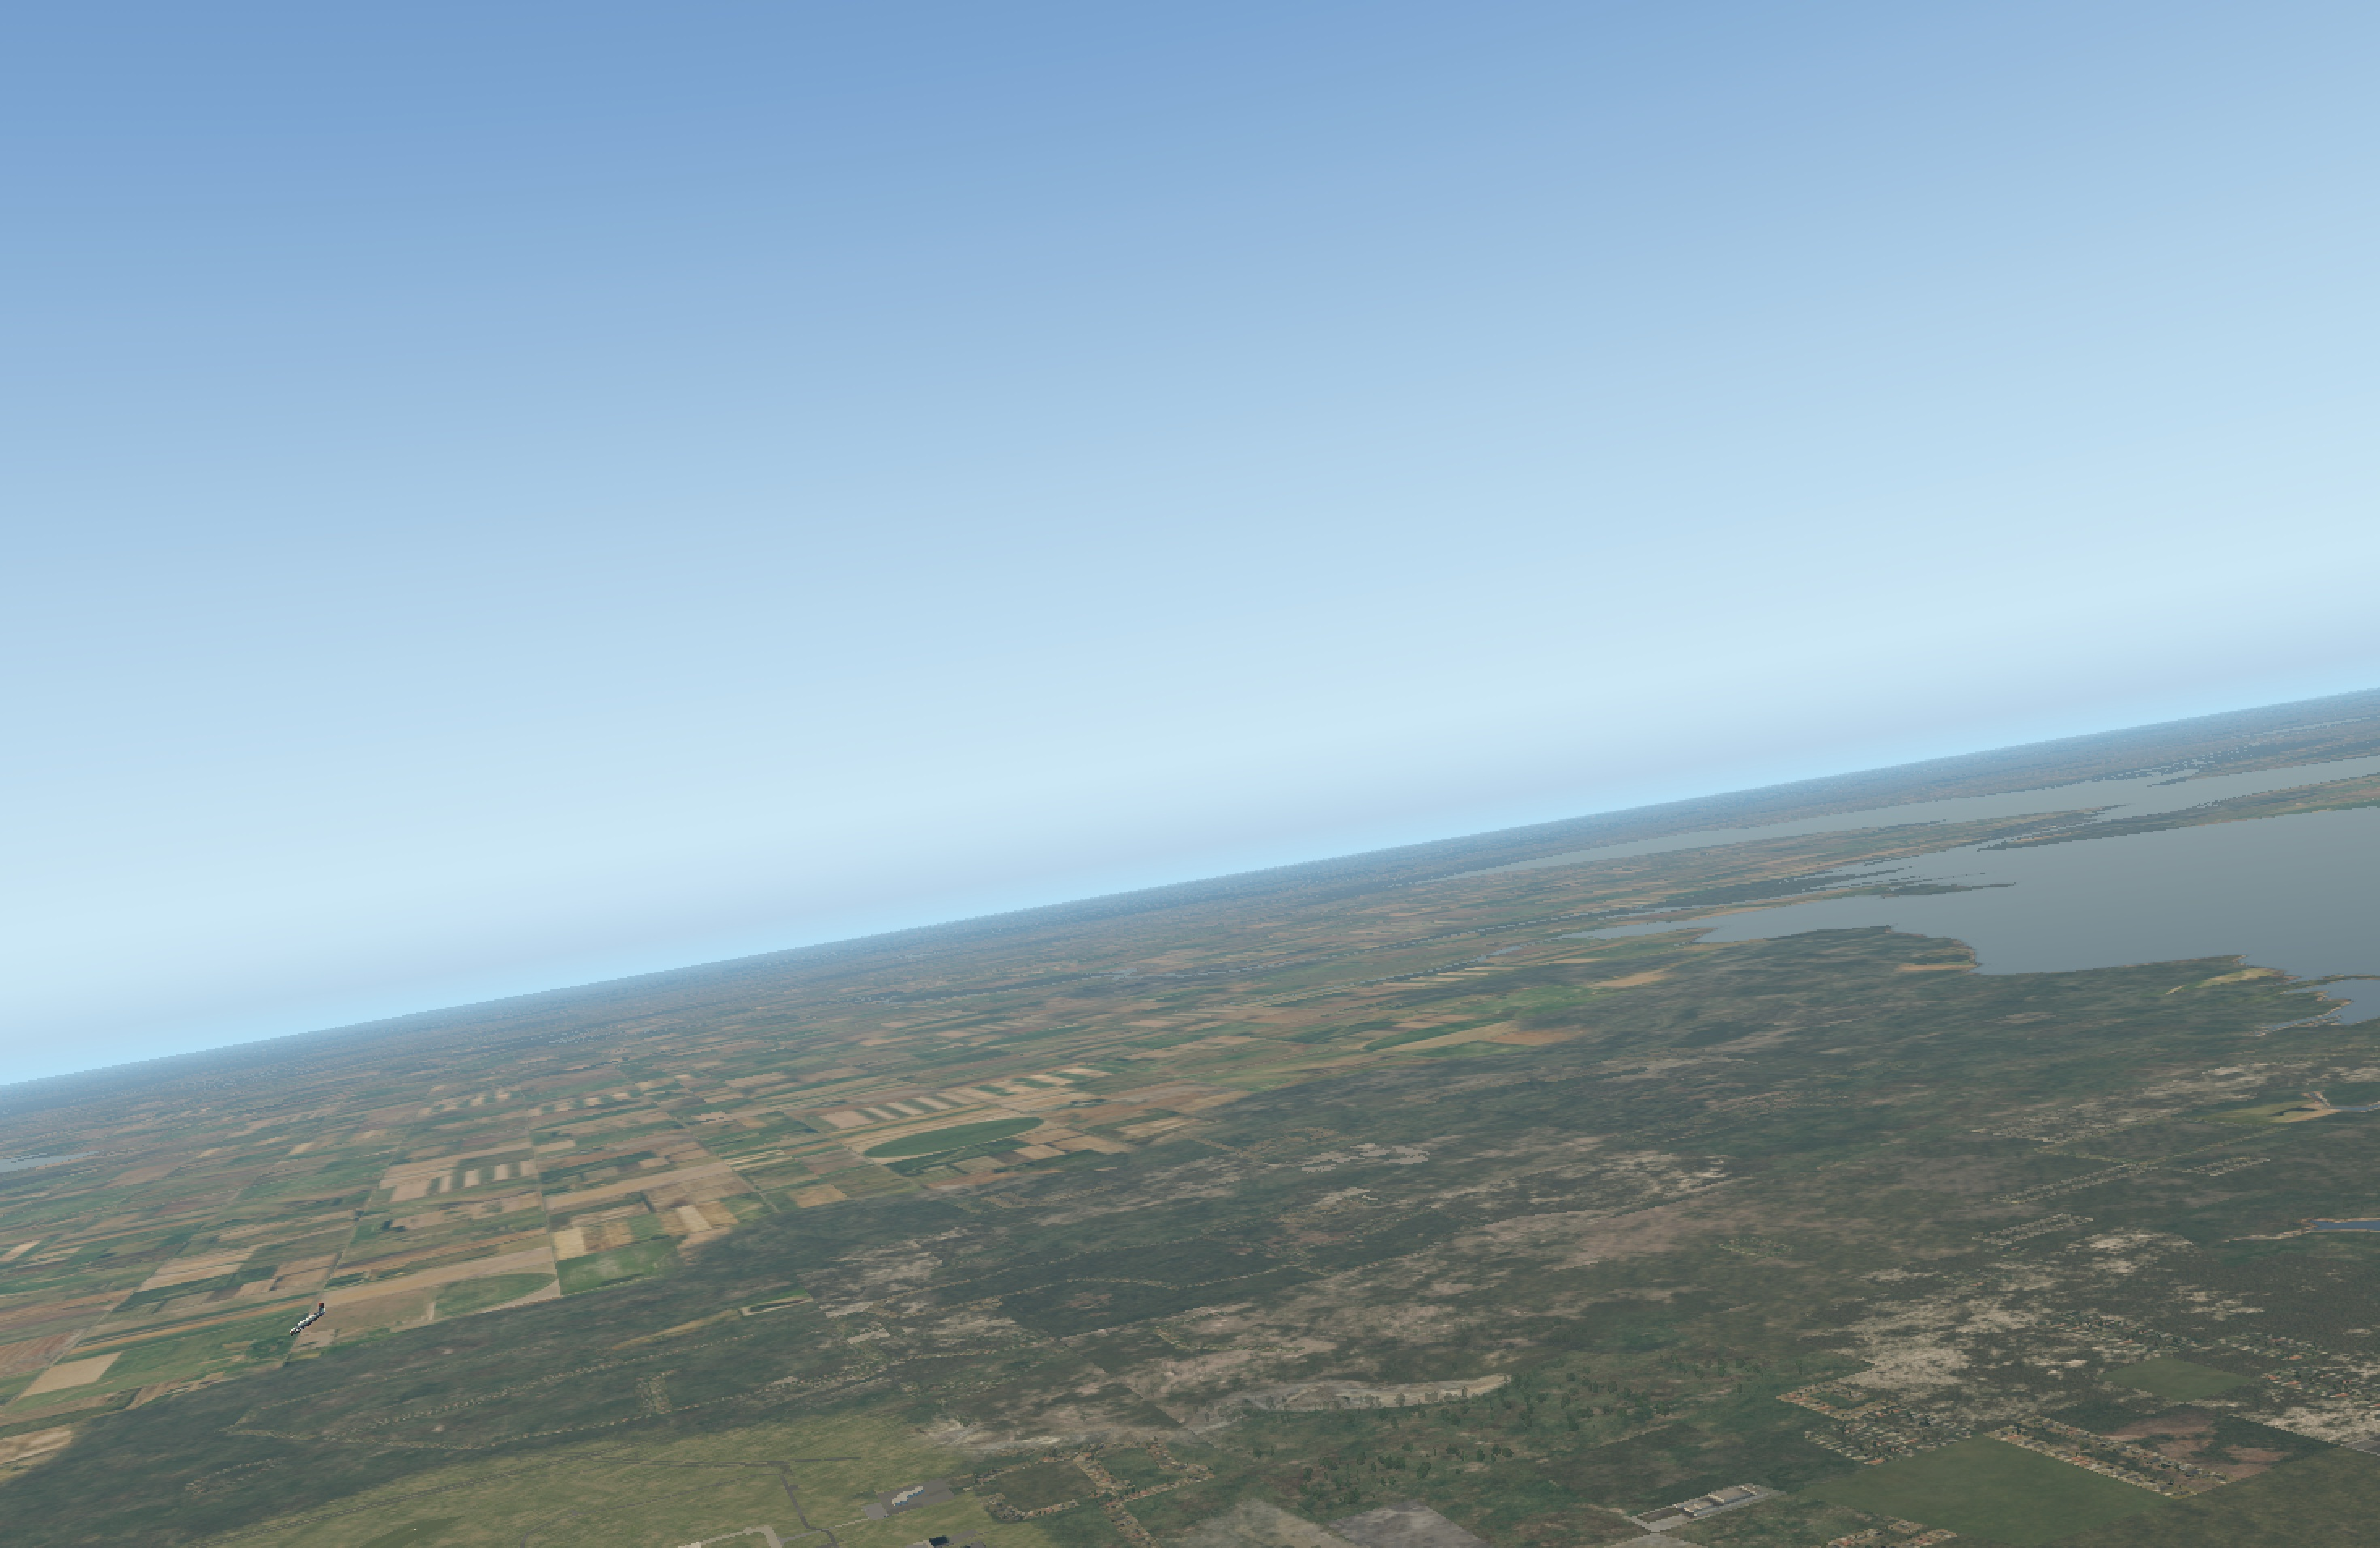aircraft: (276, 1317, 330, 1338)
